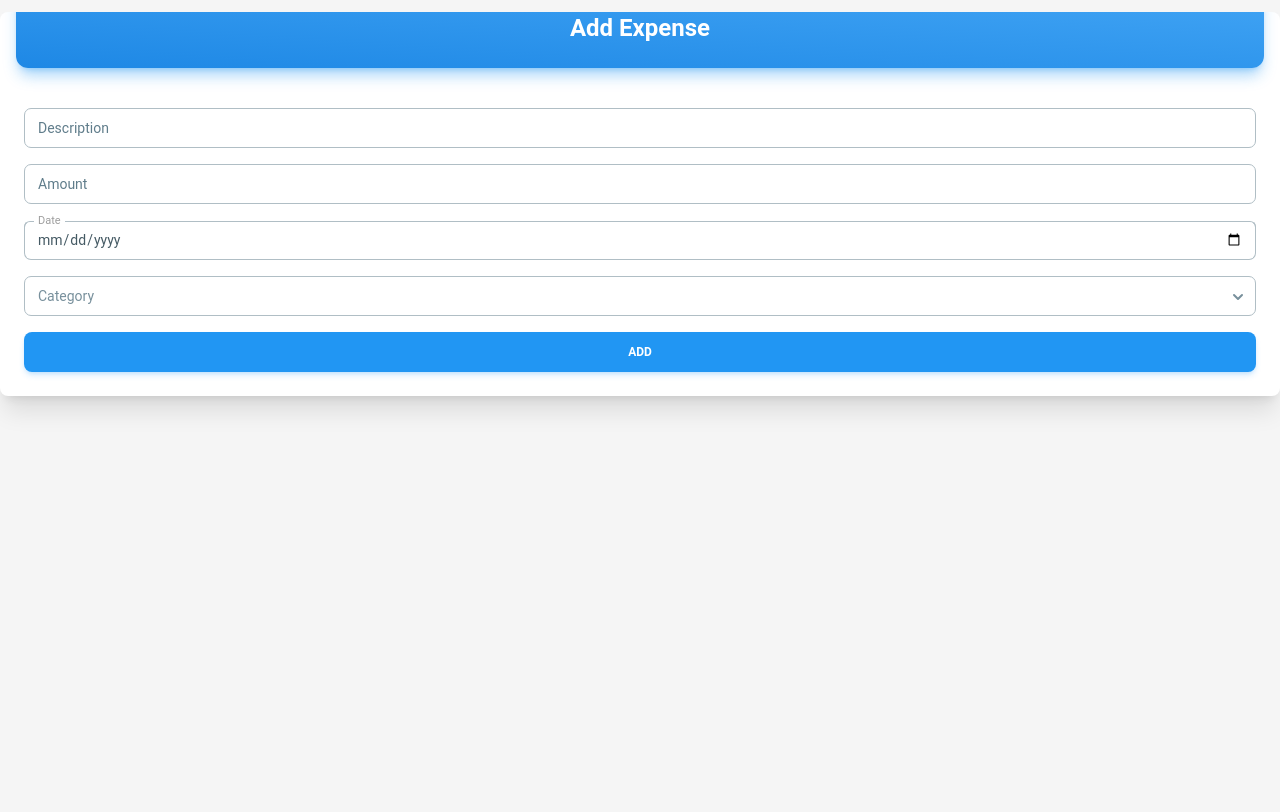
Scenario: ExpenseForm › shows validation error for negative amount
Type "-10" into the number field with test id "expense-amount-input" at (640, 184), box [24,164,1256,204]
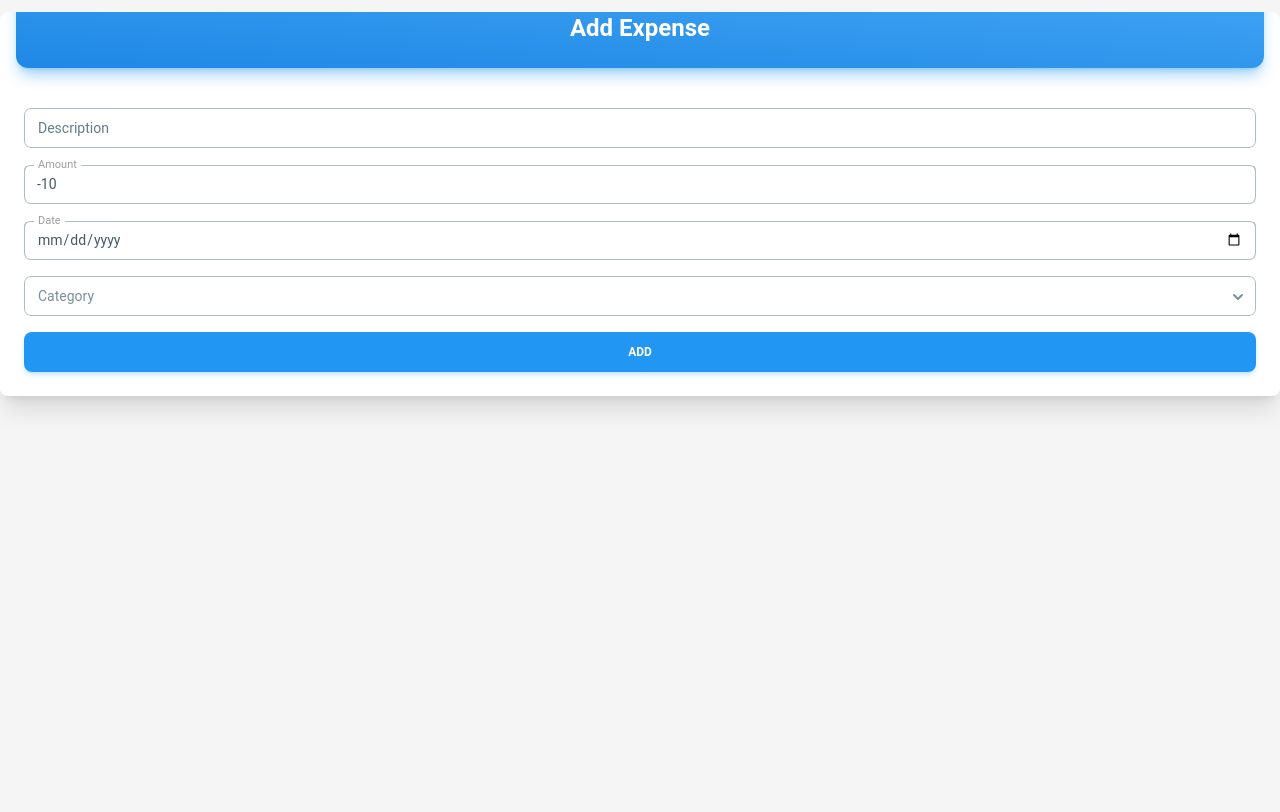
Click the button "Add" at (640, 352), box [24,332,1256,372]
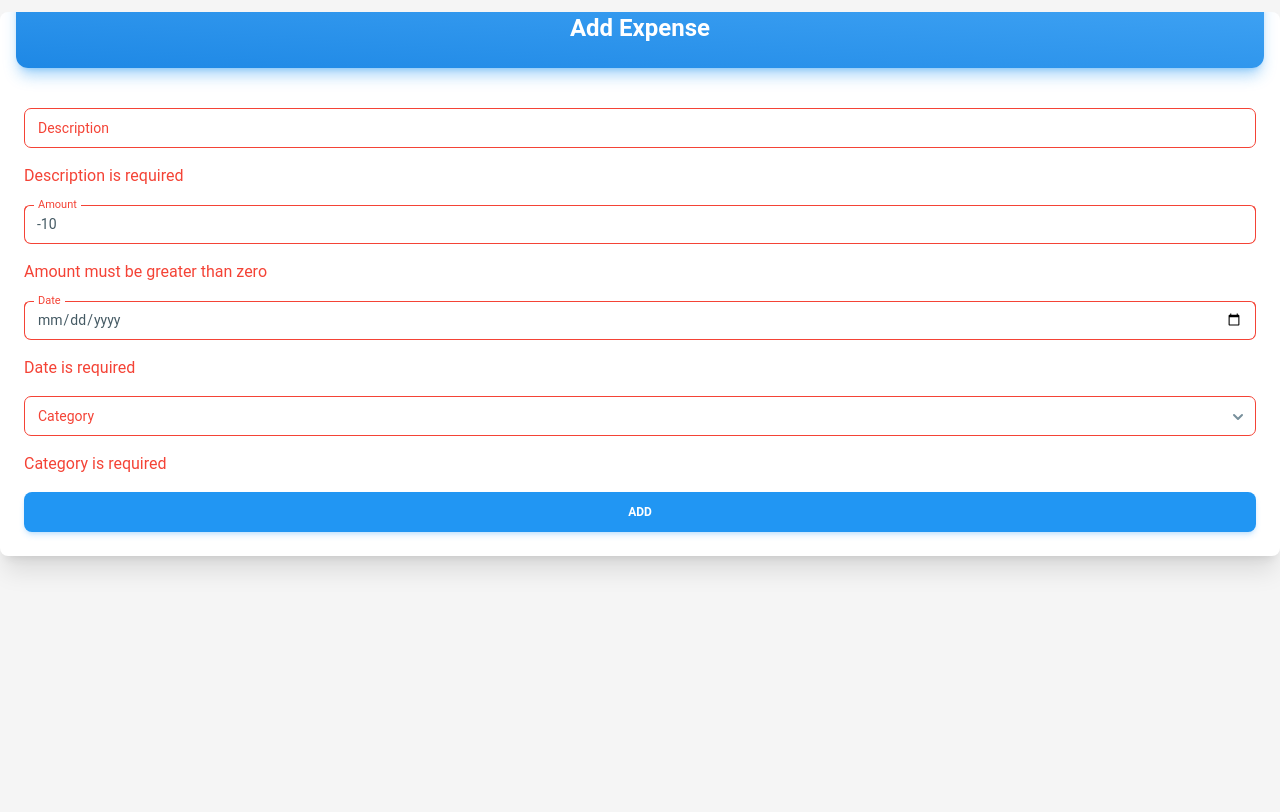
Check: the text "Amount must be greater than zero" is shown, box [24,262,267,281]
